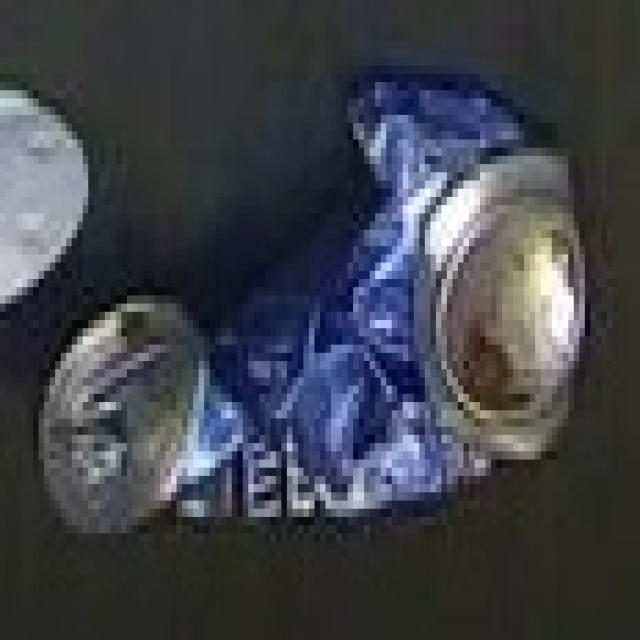litter: (11, 44, 612, 607)
